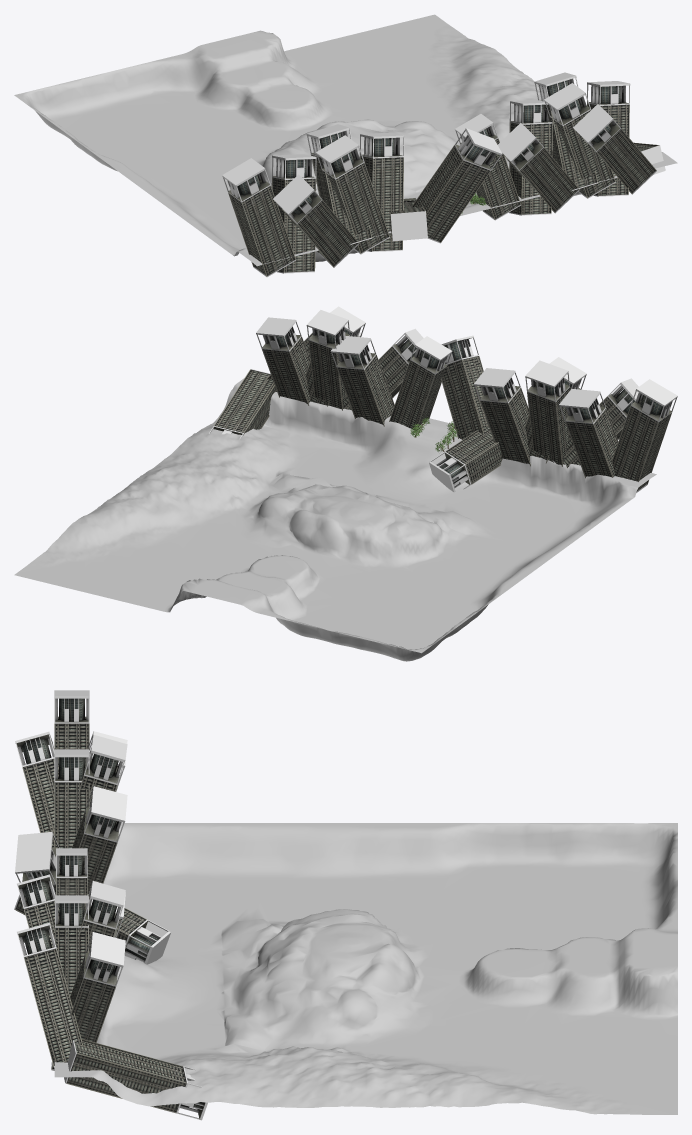
The model's file is terrain_test.fbx.
3 renders of one model, top to bottom at view 1: azimuth 30°, elevation 25°; view 2: azimuth 150°, elevation 25°; view 3: azimuth 270°, elevation 25°, orthographic. The views are drawn at different scales.
Parts seen in each view (by area): view 1: Terrain_QuarterResolution:Mesh, polySurface14, polySurface8, polySurface12, polySurface10, polySurface13, polySurface2, polySurface6, polySurface4, polySurface9, polySurface1, building_2:polySurface1 (+5 smaller); view 2: Terrain_QuarterResolution:Mesh, polySurface8, polySurface13, polySurface11, polySurface9, polySurface1, polySurface14, building_2:polySurface1, polySurface5, polySurface3, polySurface15, polySurface7 (+4 smaller); view 3: Terrain_QuarterResolution:Mesh, polySurface7, polySurface6, polySurface5, polySurface13, polySurface12, polySurface10, polySurface4, polySurface8, polySurface11, polySurface15, polySurface14 (+3 smaller).
Part boxes in pixels (bbox=[...]): Terrain_QuarterResolution:Mesh: bbox=[14, 14, 677, 266]; polySurface14: bbox=[411, 128, 502, 243]; polySurface8: bbox=[222, 158, 295, 277]; polySurface12: bbox=[316, 135, 389, 254]; polySurface10: bbox=[273, 174, 359, 267]; polySurface13: bbox=[359, 132, 404, 251]; polySurface2: bbox=[498, 123, 579, 213]; polySurface6: bbox=[573, 104, 656, 194]; polySurface4: bbox=[544, 83, 615, 198]; polySurface9: bbox=[271, 154, 316, 273]; polySurface1: bbox=[509, 99, 552, 215]; building_2:polySurface1: bbox=[455, 114, 520, 220]; Terrain_QuarterResolution:Mesh: bbox=[14, 378, 656, 661]; polySurface8: bbox=[612, 379, 677, 492]; polySurface13: bbox=[473, 368, 530, 466]; polySurface11: bbox=[525, 360, 570, 466]; polySurface9: bbox=[559, 389, 618, 478]; polySurface1: bbox=[330, 336, 394, 426]; polySurface14: bbox=[441, 335, 488, 439]; building_2:polySurface1: bbox=[389, 336, 452, 429]; polySurface5: bbox=[256, 317, 310, 405]; polySurface3: bbox=[306, 310, 350, 410]; polySurface15: bbox=[429, 425, 502, 492]; polySurface7: bbox=[209, 369, 275, 439]; Terrain_QuarterResolution:Mesh: bbox=[54, 823, 677, 1114]; polySurface7: bbox=[64, 1039, 207, 1120]; polySurface6: bbox=[17, 922, 83, 1068]; polySurface5: bbox=[51, 932, 125, 1070]; polySurface13: bbox=[72, 786, 127, 894]; polySurface12: bbox=[54, 749, 89, 848]; polySurface10: bbox=[15, 731, 58, 847]; polySurface4: bbox=[54, 895, 88, 996]; polySurface8: bbox=[54, 690, 89, 764]; polySurface11: bbox=[78, 735, 127, 806]; polySurface15: bbox=[14, 894, 171, 964]; polySurface14: bbox=[15, 832, 60, 899].
Bounding box in the file's own units: 3152 × 979 × 3195.
